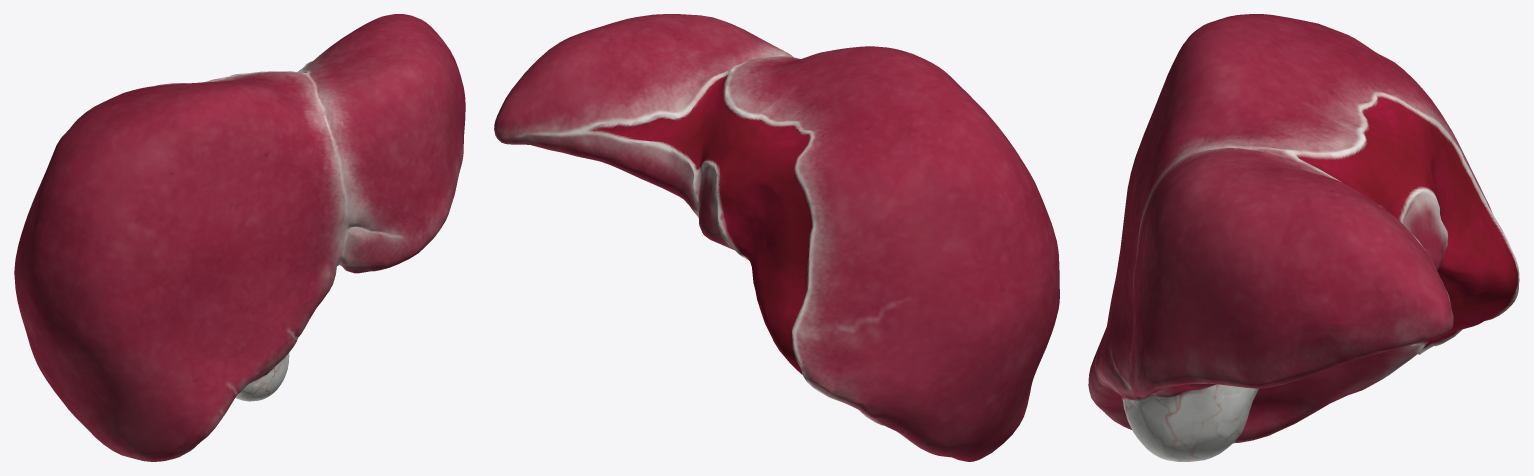
File: Healthy_Liver.glb
3 renders of one model, left to right at view 1: azimuth 30°, elevation 25°; view 2: azimuth 150°, elevation 25°; view 3: azimuth 270°, elevation 25°, orthographic. The views are drawn at different scales.
Visible parts, largest first — view 1: Healthy_LIver; view 2: Healthy_LIver; view 3: Healthy_LIver.
Boxes of the visible parts, bbox=[...] form: Healthy_LIver: bbox=[14, 14, 465, 461]; Healthy_LIver: bbox=[494, 14, 1059, 461]; Healthy_LIver: bbox=[1088, 14, 1519, 461].
Bounding box in the file's own units: 19.2 × 14.07 × 11.93.
Materials: 1 (1 with a texture image).
